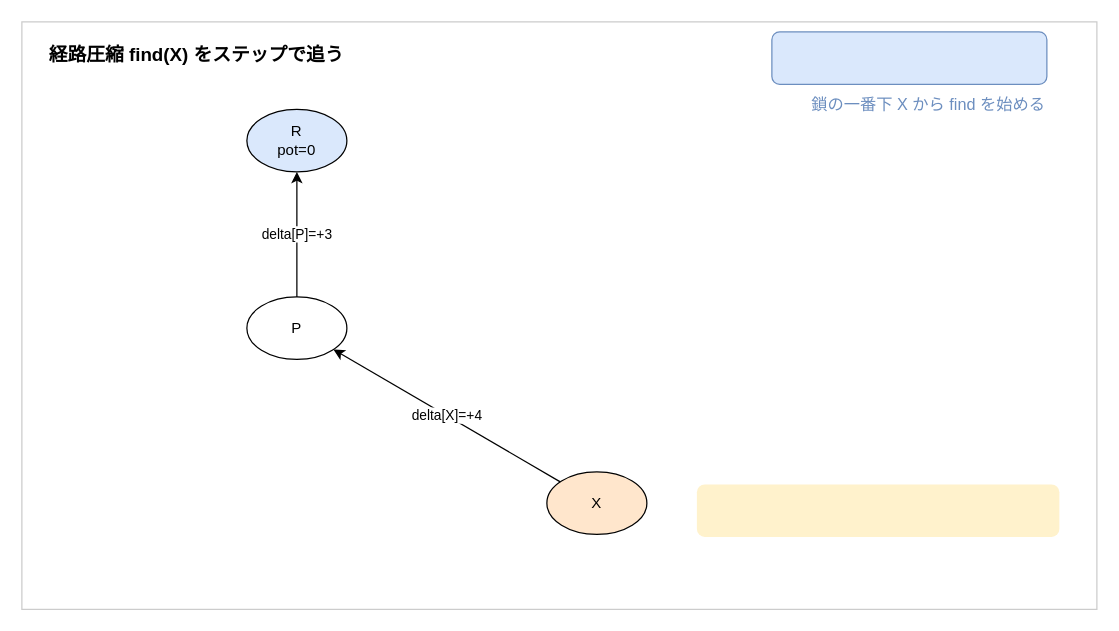
Some shapes in this 1119 by 631 pixel diagram are drawn without their labels. The shapes that lost their labels are listed below. From the top down, each one's centre as x and y in pixels, then its label:
At [909,57]: "STEP 1 / 5".
At [877,510]: "find(X) を始める".
